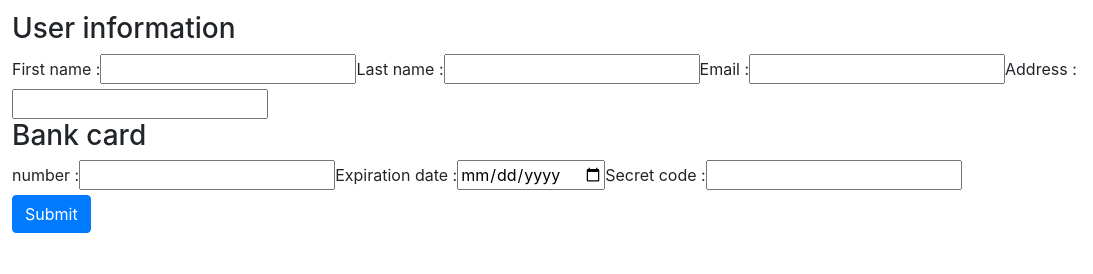
Test: order form spec › When click on submit button › and there are an error when call create order function › should display error
The width and height of the screenshot is (1093, 274).
Click the button "Submit" at (51, 214), box [12, 195, 91, 233]
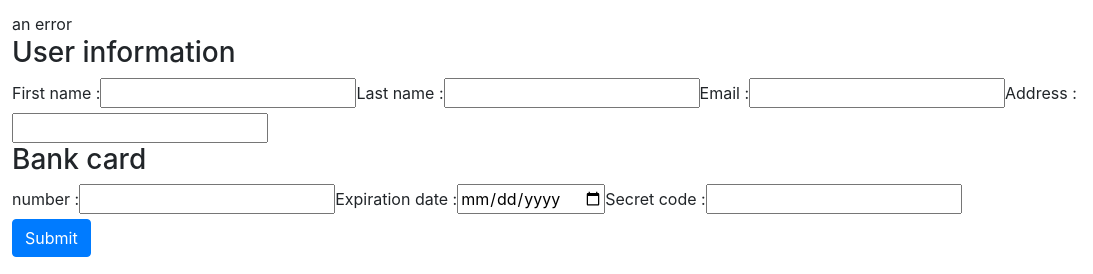
Now the text "an error" is shown, box [12, 14, 72, 34]
